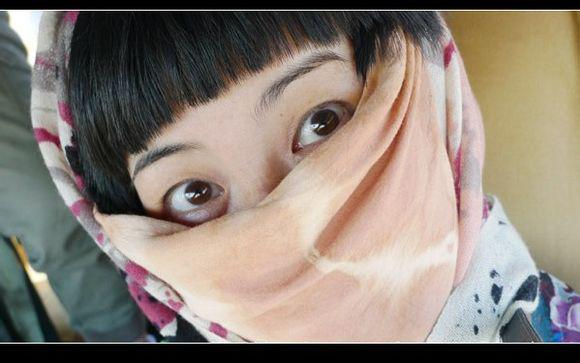OK: (118, 51, 428, 361)
